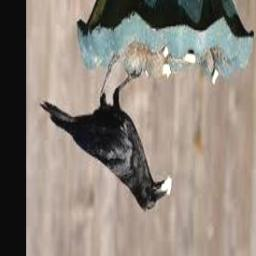Crow: (39, 56, 171, 213)
